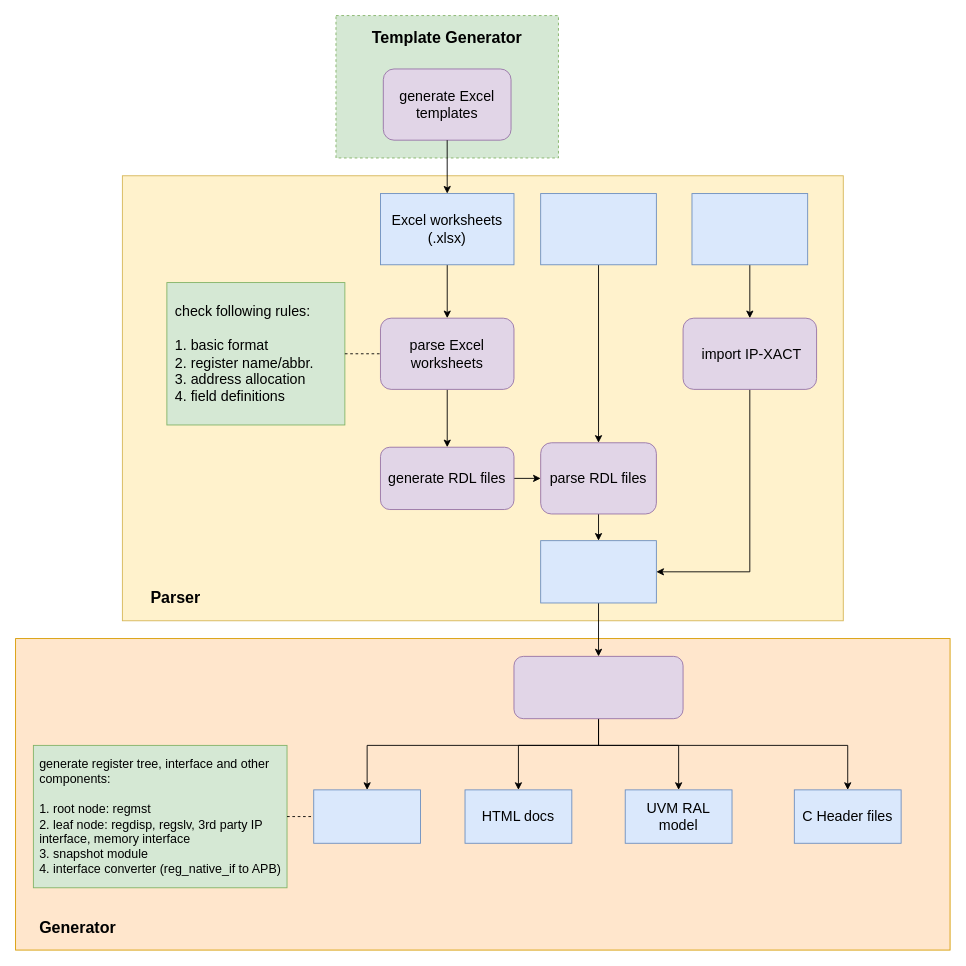
Some shapes in this 966 by 966 pixel diagram are drawn without their labels. The centre of each missing label's shape, as x and y in pixels:
hierarchical register model: the point at 598,571
IP-XACT files (.xml): the point at 749,229
preprocess and traverse register model: the point at 598,687
RTL modules: the point at 367,816
SystemRDL files (.rdl): the point at 598,229
